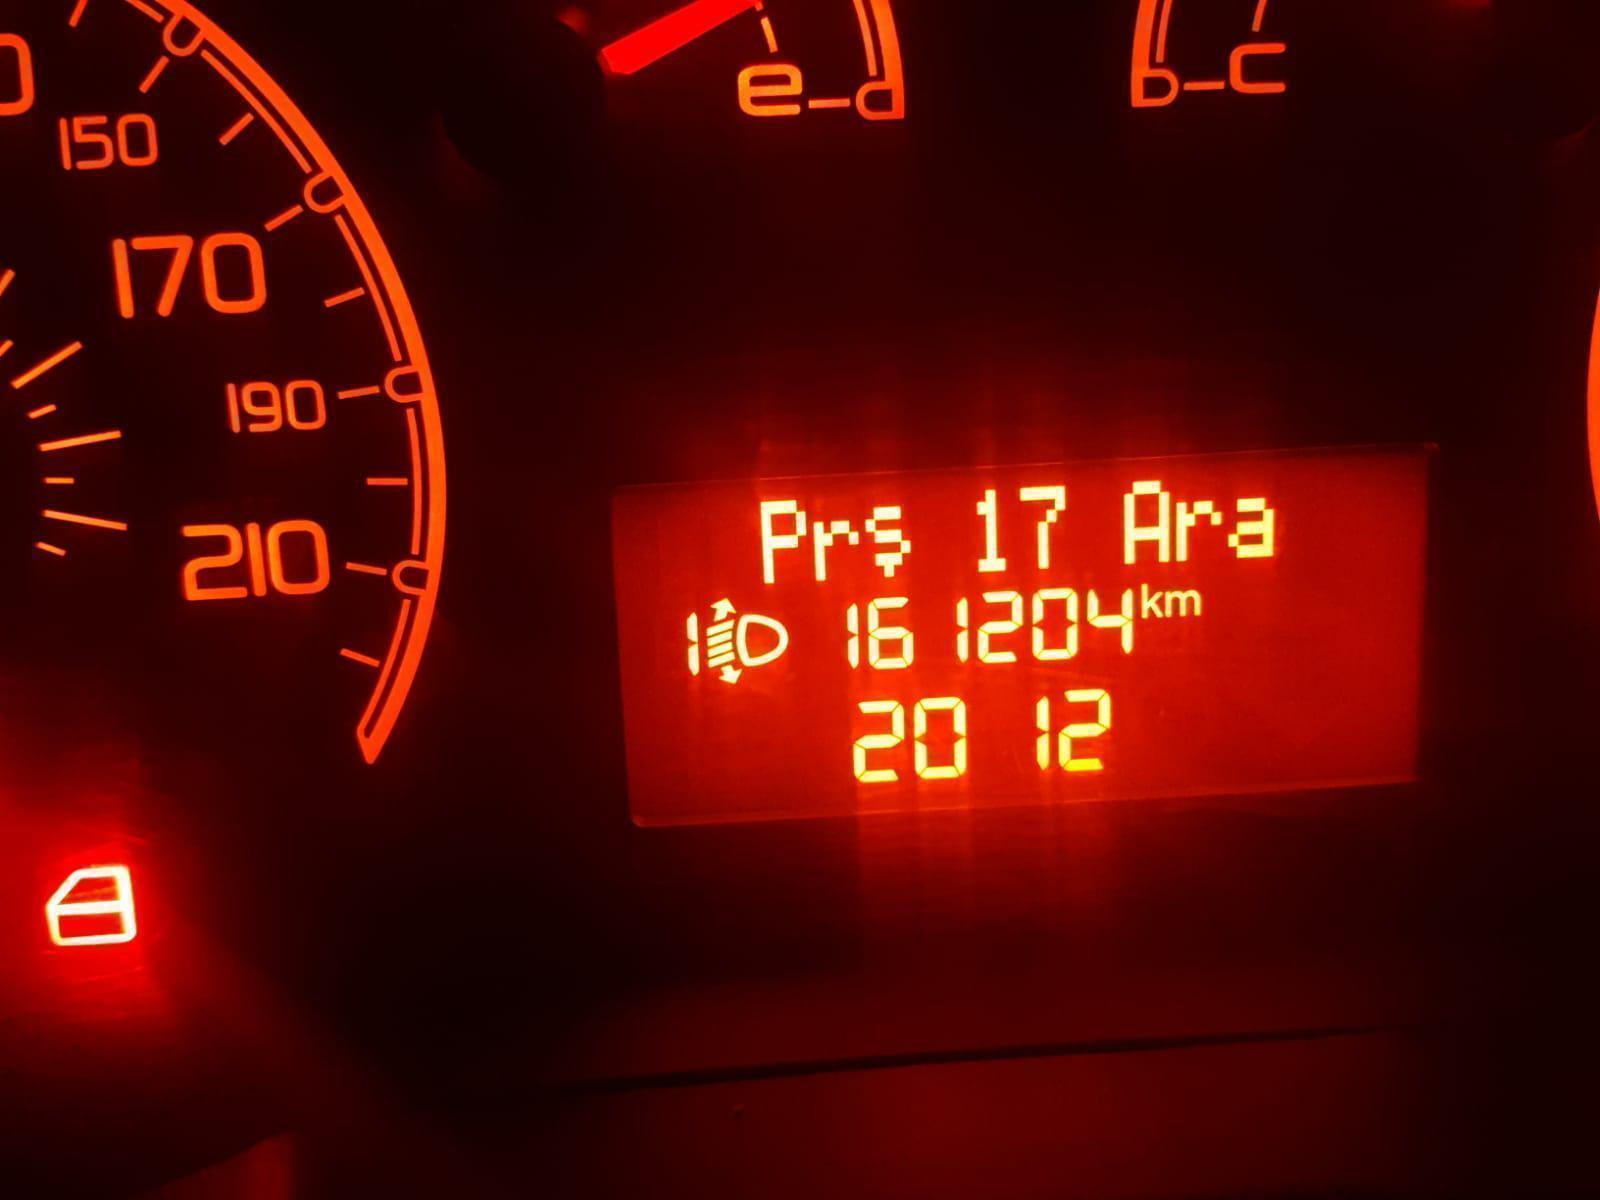0: (908, 692, 968, 782), (1027, 584, 1078, 664)
1: (974, 485, 1008, 575), (1027, 684, 1053, 774), (842, 596, 862, 671), (952, 592, 973, 667), (682, 609, 702, 681)
2: (1056, 686, 1112, 776), (849, 697, 902, 787), (978, 587, 1023, 666)
4: (1086, 585, 1135, 657)
6: (866, 596, 918, 672)
7: (1017, 479, 1070, 570)
X: (755, 497, 808, 584), (1120, 476, 1170, 566), (864, 505, 912, 579), (1226, 495, 1276, 561), (1173, 495, 1221, 563), (810, 516, 859, 581), (1163, 587, 1204, 616), (1139, 581, 1164, 620)
odometer: (593, 453, 1453, 827)
